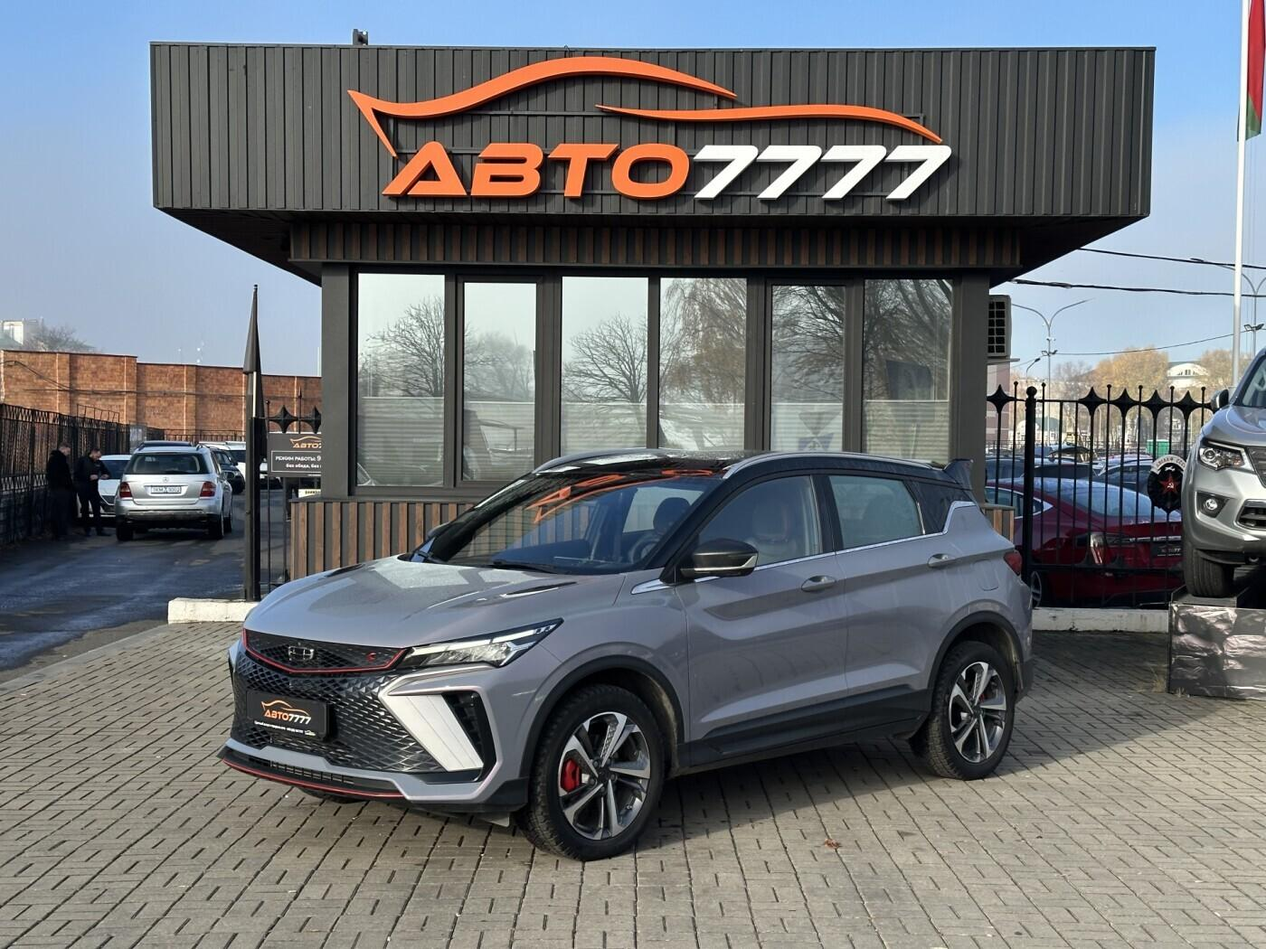Coolray_2019-2023: (213, 448, 1032, 864)
